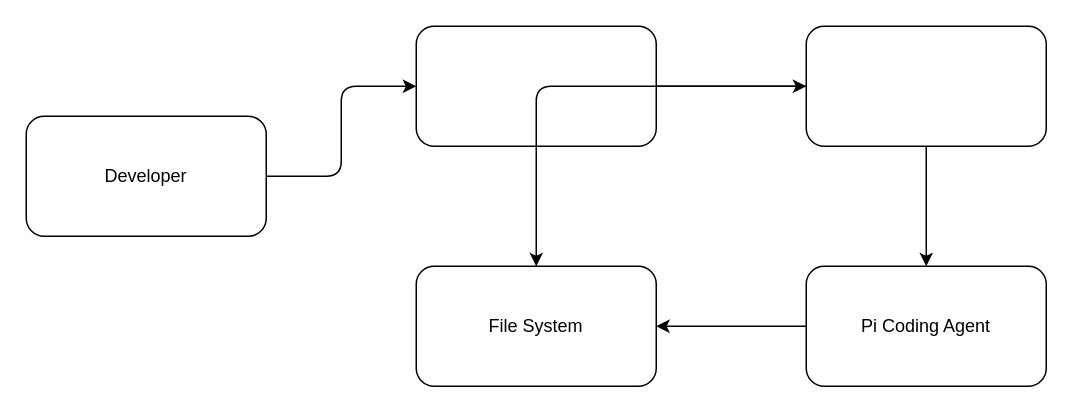
Some shapes in this 1073 by 413 pixel diagram are drawn without their labels. Each missing label, with the centre of its shape:
Pi SDK Session Manager: (x=925, y=85)
VS Code Extension: (x=535, y=85)
